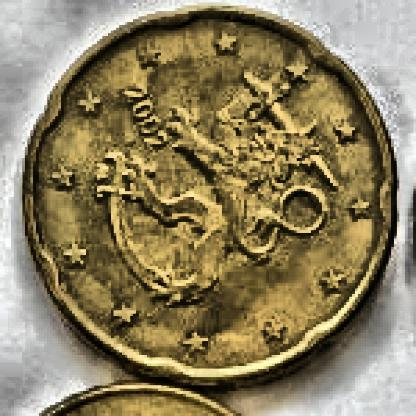coin: (23, 1, 402, 384)
